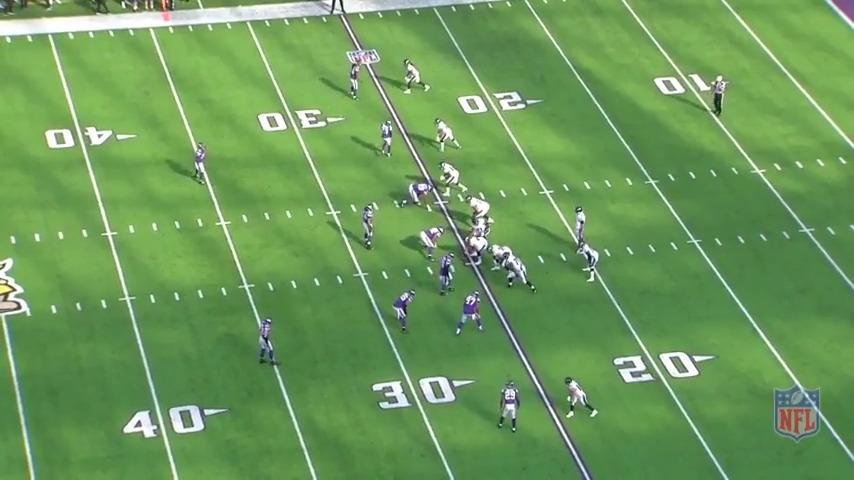player: (562, 374, 600, 422), (503, 252, 538, 294), (455, 290, 486, 337), (498, 380, 522, 435), (255, 315, 279, 369), (401, 57, 433, 97), (431, 116, 463, 155), (400, 180, 437, 211), (437, 161, 469, 196), (419, 224, 447, 261), (395, 289, 417, 335), (463, 232, 491, 268), (191, 139, 211, 189), (436, 248, 456, 298), (581, 242, 603, 285), (487, 243, 515, 275), (571, 204, 587, 256), (378, 116, 397, 159), (362, 200, 377, 252), (468, 194, 493, 225), (349, 58, 365, 103), (470, 215, 493, 240)
ref: (708, 73, 728, 120), (328, 0, 350, 15)
